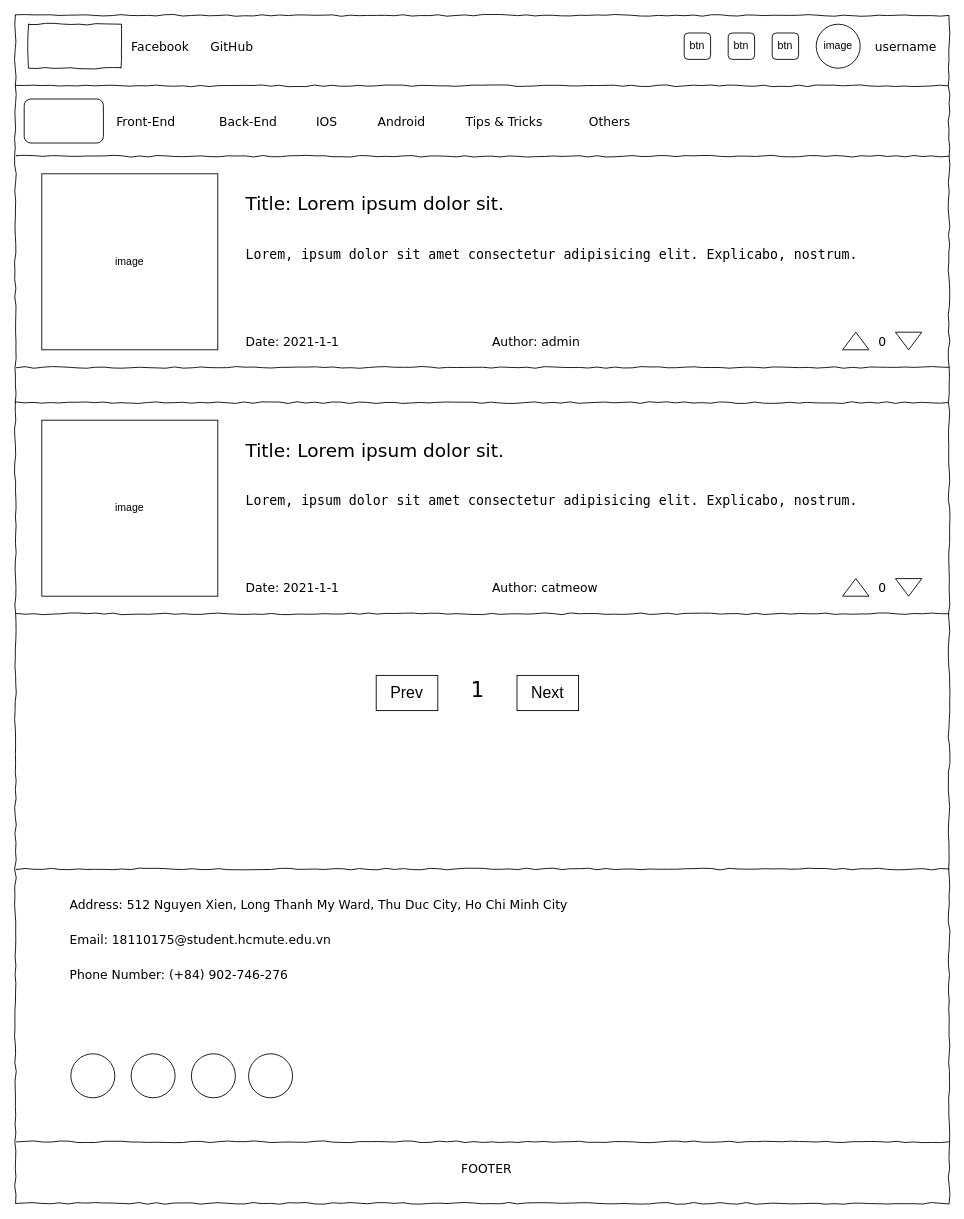
The diagram is 964 pixels wide and 1219 high, and some of its shapes have lost their labels. The shapes that lost their labels are listed below. From the top down, each one's centre as x and y in pixels, then its label:
[74,45]: LOGO
[63,120]: Newest
